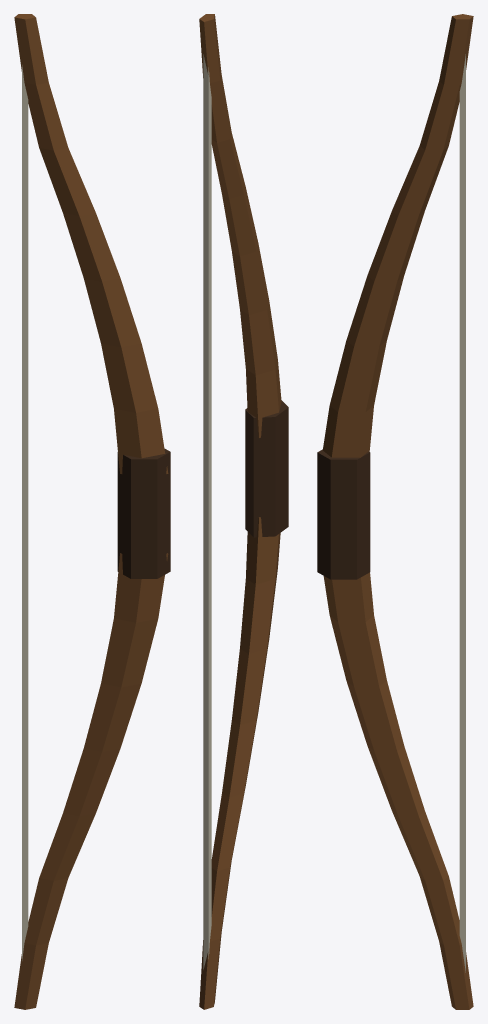
Rendered from arco.glb.
3 views of the same model, side by side, from view 1: azimuth 90°, elevation 25°; view 2: azimuth 150°, elevation 25°; view 3: azimuth 270°, elevation 25° (orthographic).
Visible parts, largest first — view 1: arco.001; view 2: arco.001; view 3: arco.001.
Part boxes in pixels (x1,y1,x2,y2): arco.001: (14,14,170,1009); arco.001: (199,14,288,1009); arco.001: (317,14,473,1009).
Size of the model in its own units: 0.0398 by 1.24 by 0.1773.
